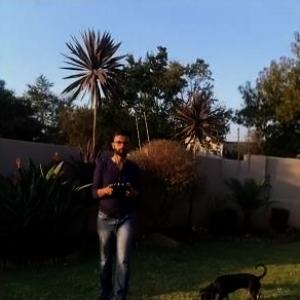follow: (88, 121, 143, 299)
null: (195, 259, 270, 299)
